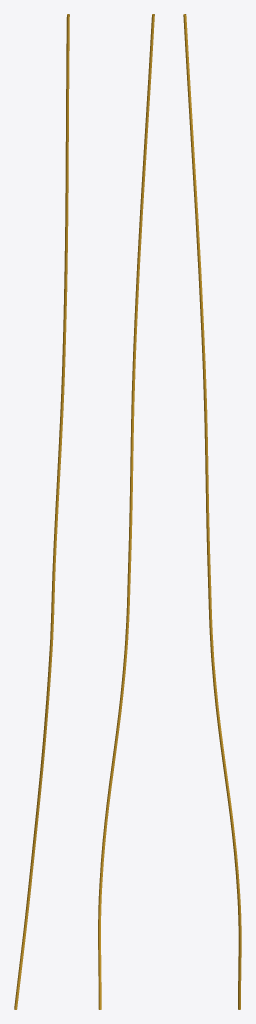
Rendered from nervoso-anterior-cutaneous-branches-of-femoral-nerve-r.glb.
3 renders of one model, left to right at view 1: azimuth 90°, elevation 25°; view 2: azimuth 150°, elevation 25°; view 3: azimuth 330°, elevation 25°, orthographic. The views are drawn at different scales.
Visible parts, largest first — view 1: Anterior cutaneous branches of femoral nerve.r; view 2: Anterior cutaneous branches of femoral nerve.r; view 3: Anterior cutaneous branches of femoral nerve.r.
Part boxes in pixels (x1,y1,x2,y2): Anterior cutaneous branches of femoral nerve.r: [14, 14, 69, 1009]; Anterior cutaneous branches of femoral nerve.r: [98, 14, 154, 1009]; Anterior cutaneous branches of femoral nerve.r: [183, 14, 241, 1009].
Bounding box in the file's own units: 0.014 × 0.361 × 0.0181.
